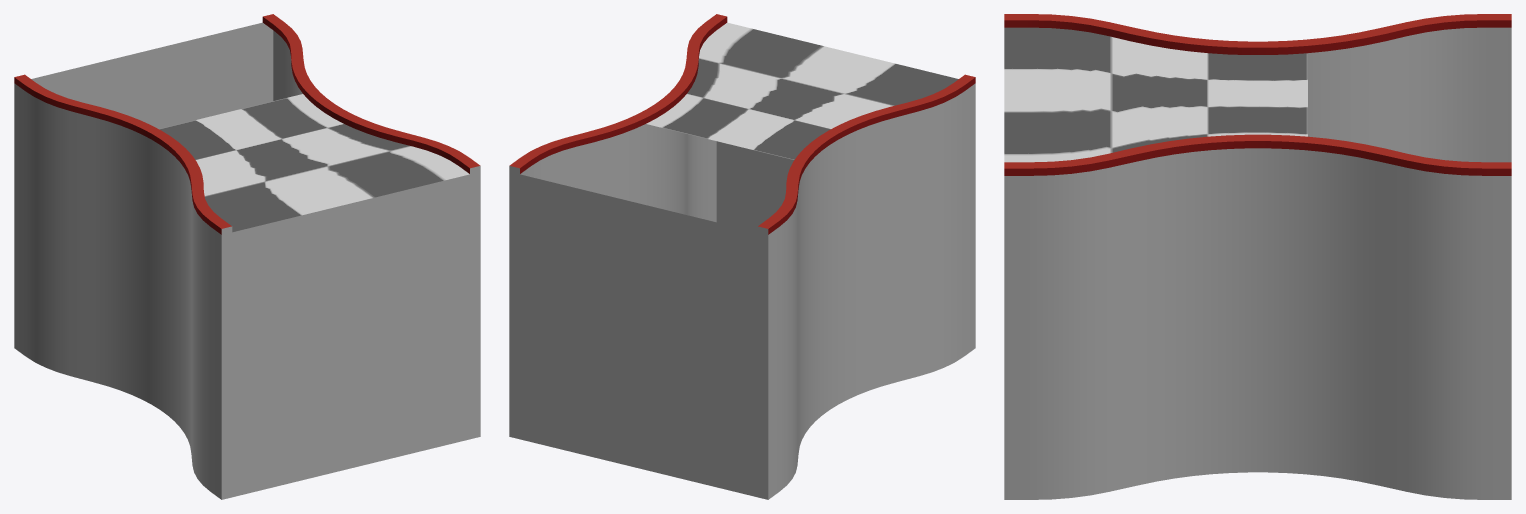
File: Road_Curve_04.fbx
3 views of the same model, side by side, from view 1: azimuth 30°, elevation 25°; view 2: azimuth 150°, elevation 25°; view 3: azimuth 270°, elevation 25° (orthographic). The views are drawn at different scales.
Visible parts, largest first — view 1: Road_Curve_04, Road_Curve_04_Boeder; view 2: Road_Curve_04, Road_Curve_04_Boeder; view 3: Road_Curve_04, Road_Curve_04_Boeder.
Boxes of the visible parts, box(x1,y1,x2,y2) form: Road_Curve_04: box(14, 22, 480, 499); Road_Curve_04_Boeder: box(14, 14, 480, 234); Road_Curve_04: box(509, 22, 975, 499); Road_Curve_04_Boeder: box(509, 14, 975, 234); Road_Curve_04: box(1004, 27, 1511, 499); Road_Curve_04_Boeder: box(1004, 14, 1511, 175).
Size of the model in its own units: 876 by 876 by 1215.
